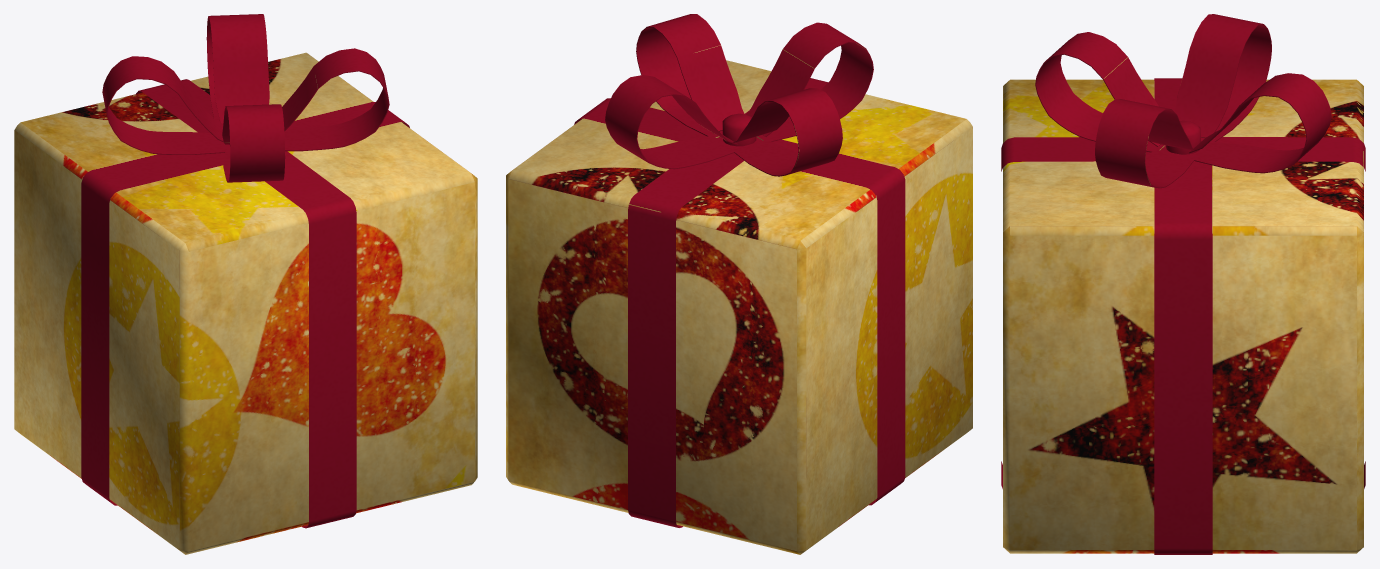
The model's file is present_yellow.glb.
The picture shows the model from 3 angles, left to right: view 1: azimuth 30°, elevation 25°; view 2: azimuth 150°, elevation 25°; view 3: azimuth 270°, elevation 25°; orthographic projection. The views are drawn at different scales.
Visible parts, largest first — view 1: christmas present; view 2: christmas present; view 3: christmas present.
Boxes of the visible parts, x1,y1,x2,y2 form: christmas present: (14,14,477,554); christmas present: (506,14,972,554); christmas present: (1001,14,1365,554).
Size of the model in its own units: 40.39 by 51.28 by 40.29.
Materials: 1 (1 with a texture image).
